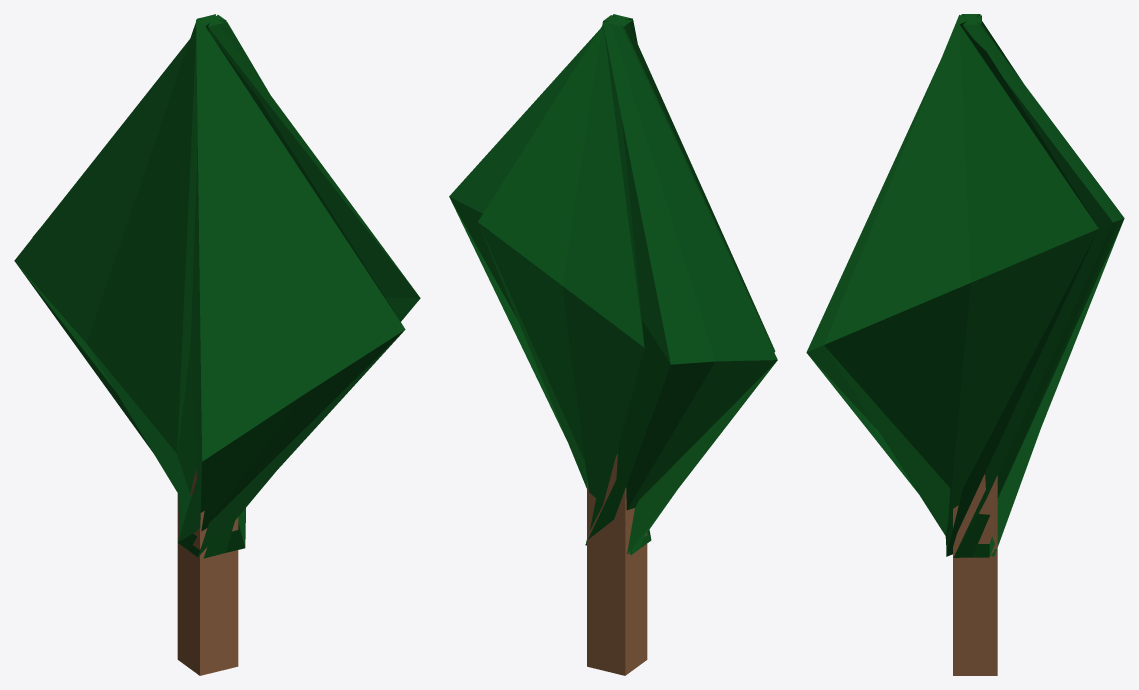
The model's file is tree-summer-complete-6-030.glb.
The picture shows the model from 3 angles, left to right: view 1: azimuth 30°, elevation 25°; view 2: azimuth 150°, elevation 25°; view 3: azimuth 270°, elevation 25°; orthographic projection.
Parts seen in each view (by area): view 1: Tree 6_89; view 2: Tree 6_89; view 3: Tree 6_89.
Boxes of the visible parts, bbox=[...] form: Tree 6_89: bbox=[14, 14, 420, 675]; Tree 6_89: bbox=[449, 14, 777, 675]; Tree 6_89: bbox=[806, 14, 1124, 675].
Size of the model in its own units: 0.8009 by 1.89 by 0.8401.
